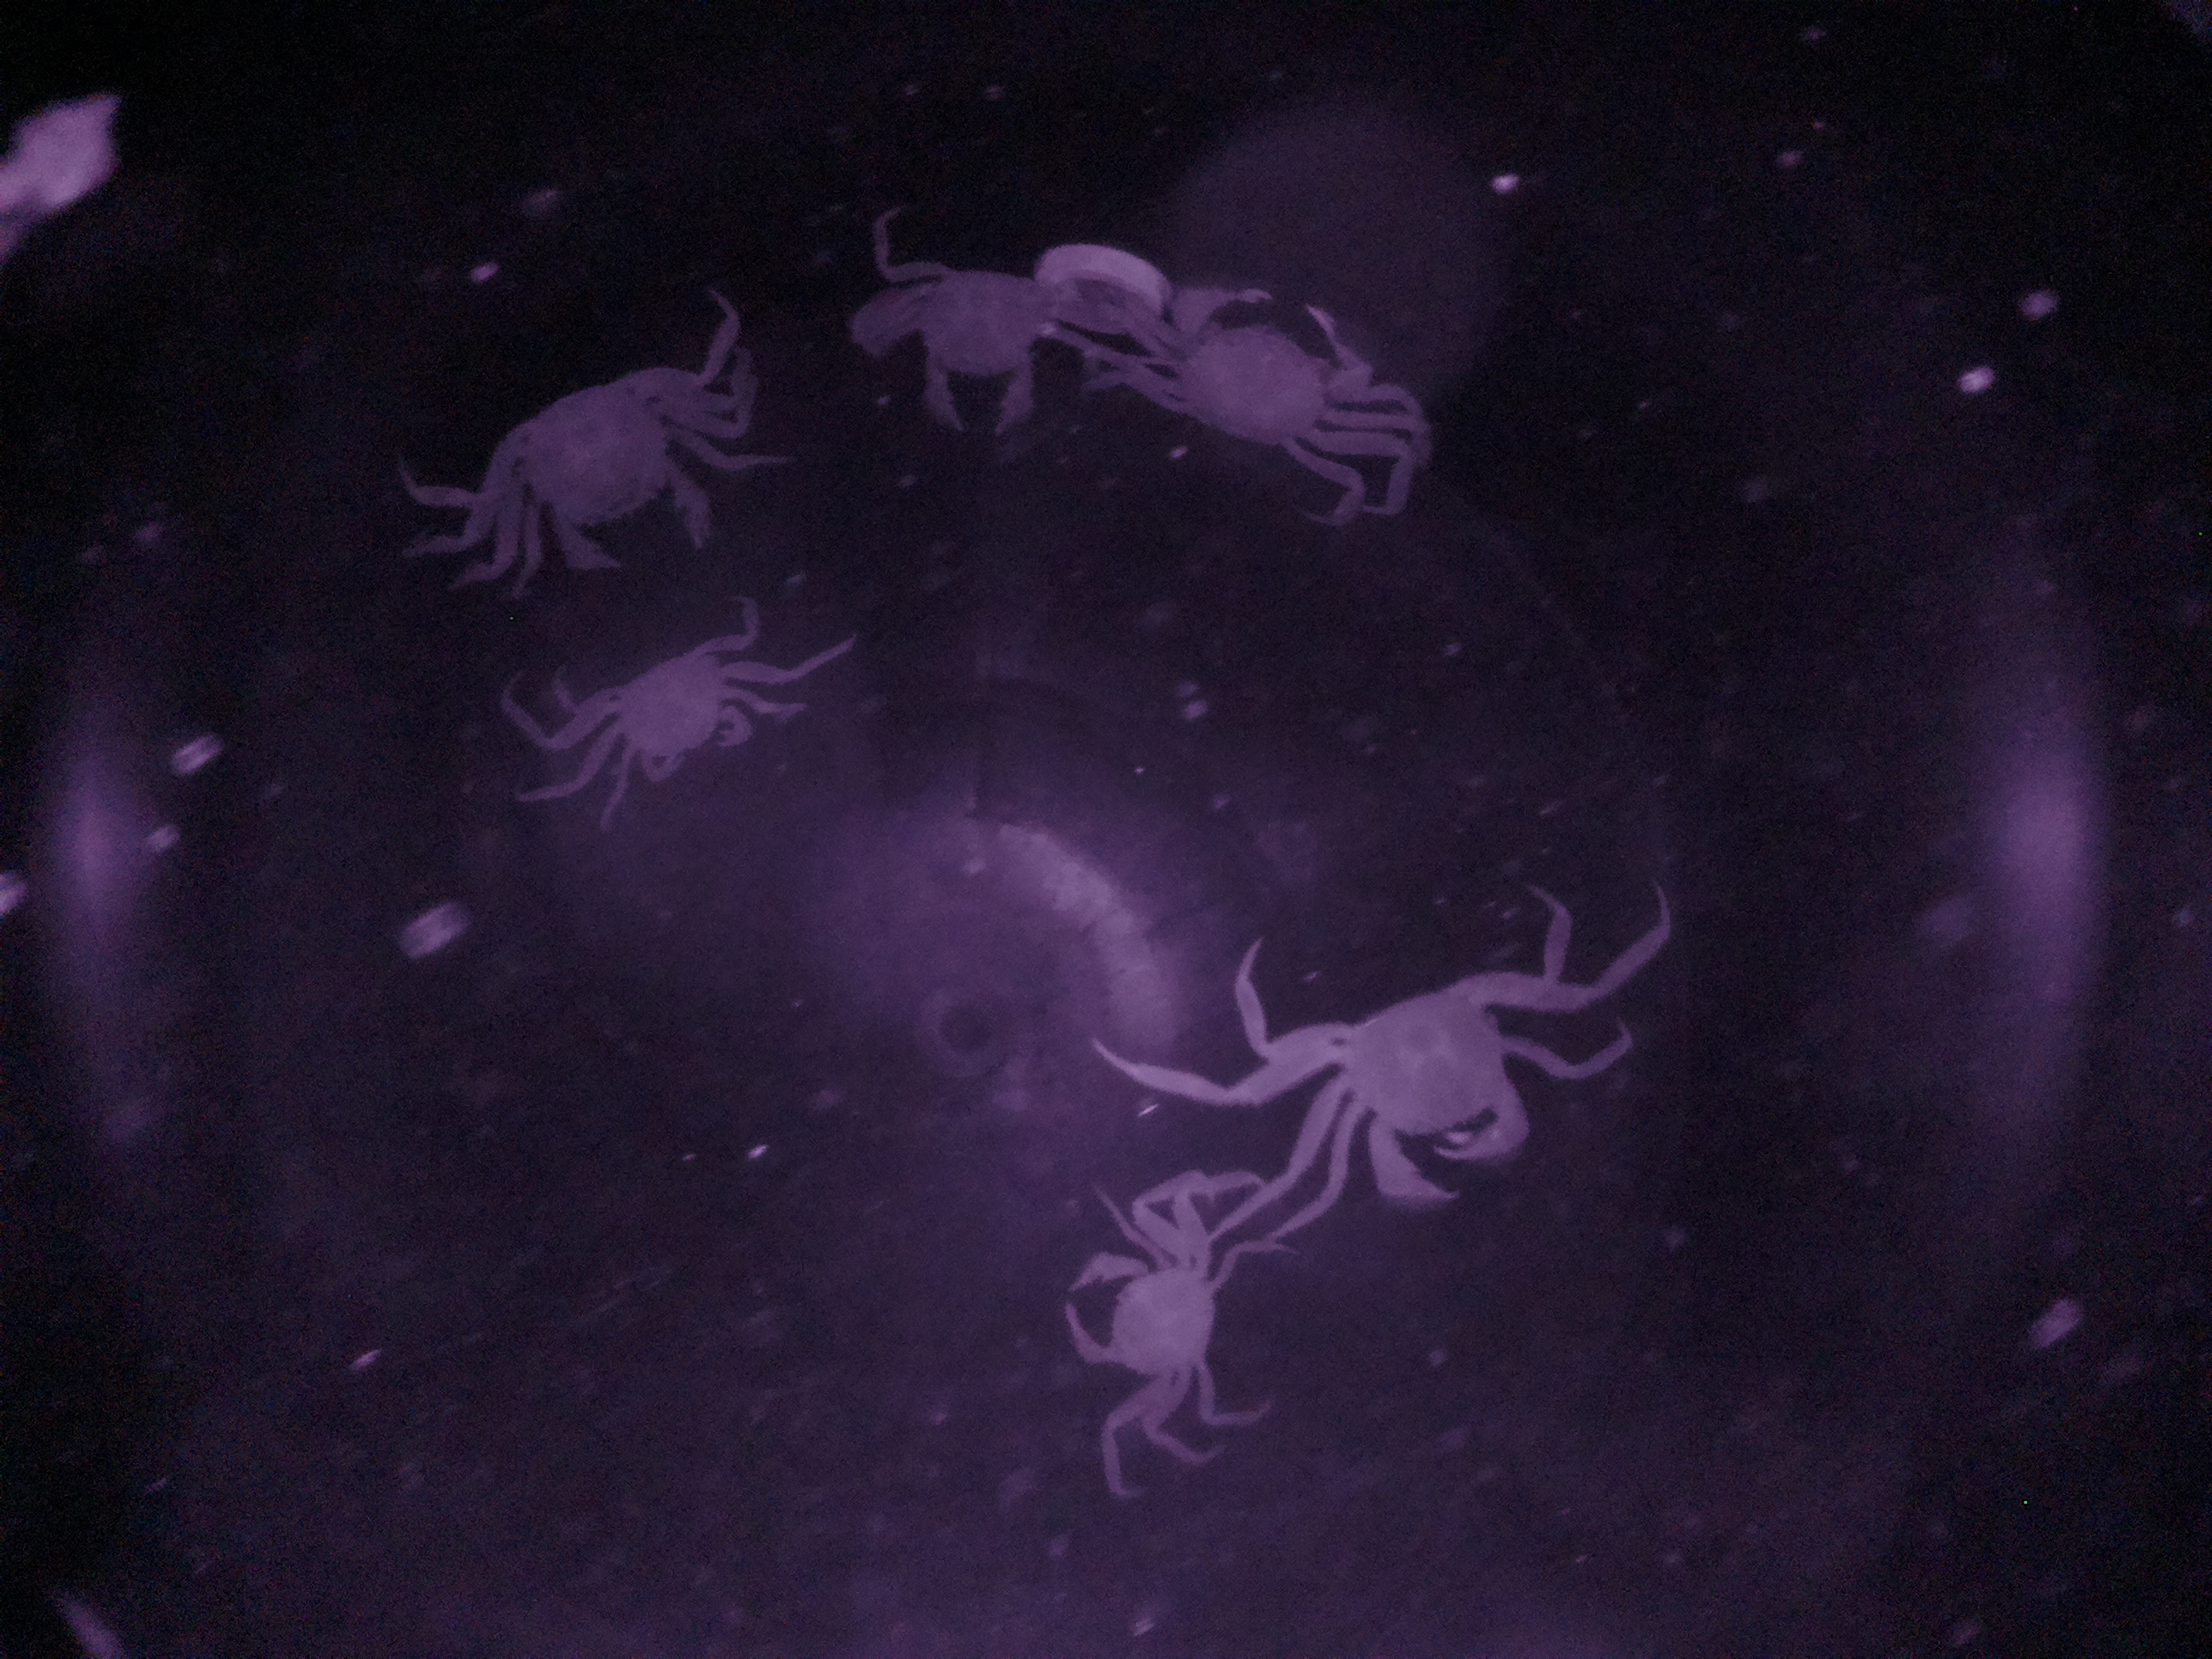Crab: (1299, 946, 1557, 1222), (482, 331, 718, 586), (1120, 274, 1383, 484), (1049, 1204, 1233, 1431), (596, 610, 772, 805)
